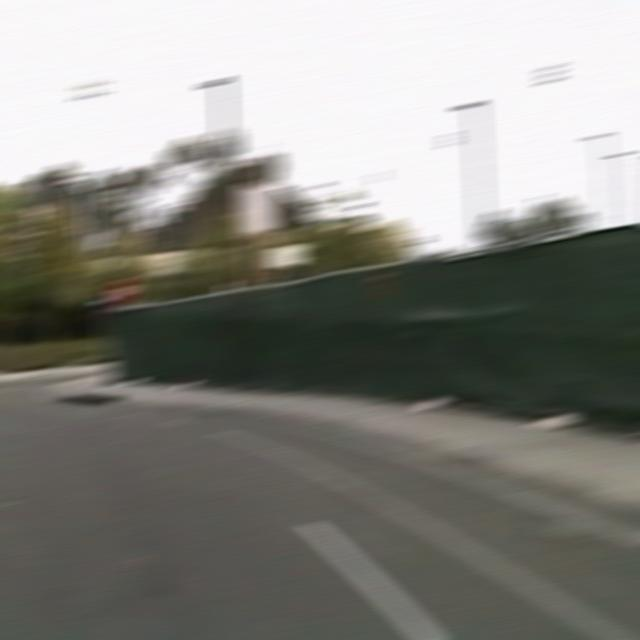stop: (108, 276, 136, 308)
